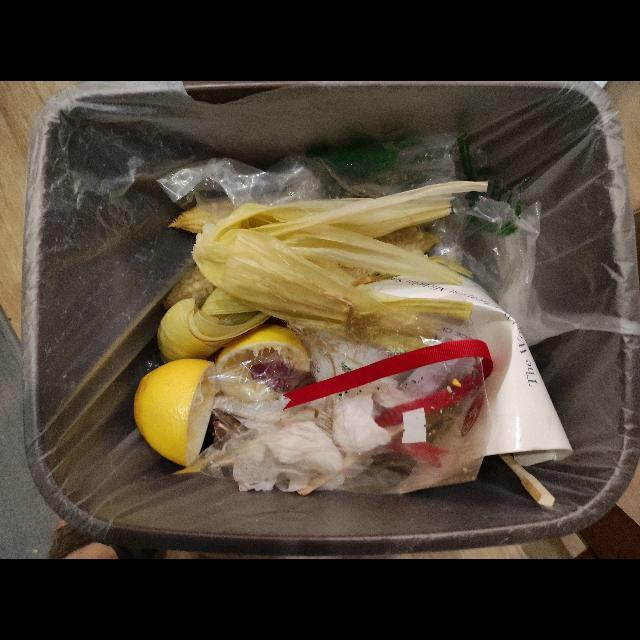paper: (350, 279, 573, 468)
plastic_bag: (156, 135, 461, 210)
